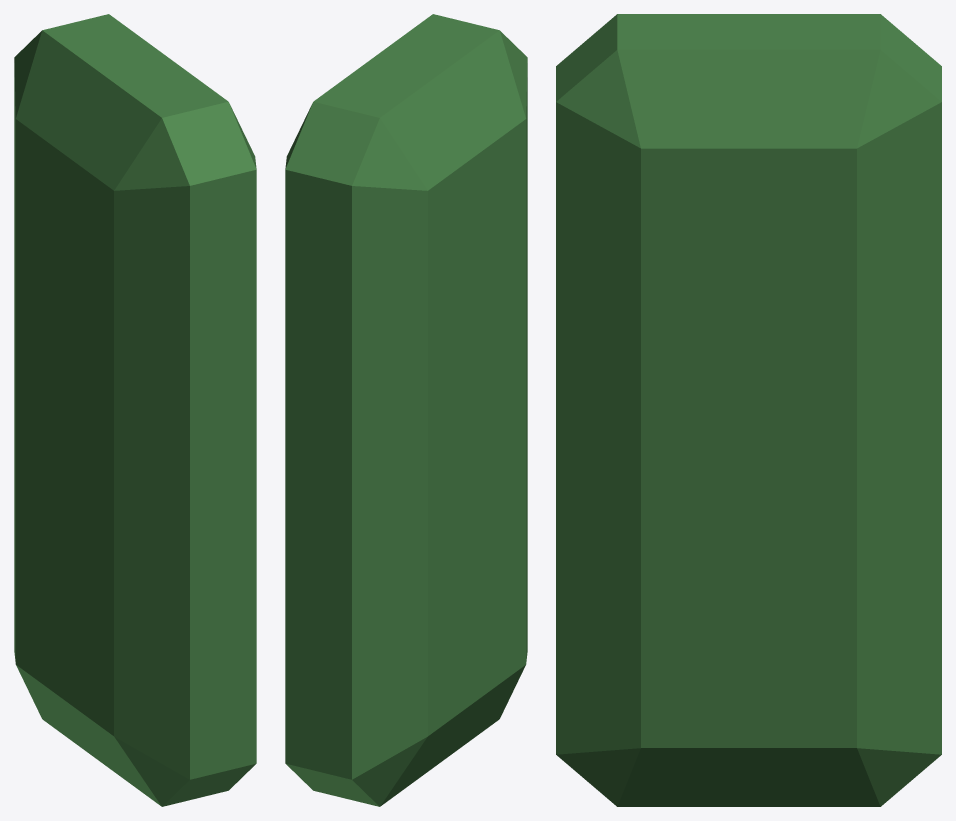
File: SM_Beryl.glb
3 renders of one model, left to right at view 1: azimuth 30°, elevation 25°; view 2: azimuth 150°, elevation 25°; view 3: azimuth 270°, elevation 25°, orthographic. The views are drawn at different scales.
Visible parts, largest first — view 1: SM_Beryl; view 2: SM_Beryl; view 3: SM_Beryl.
Boxes of the visible parts, bbox=[...] form: SM_Beryl: bbox=[14, 14, 256, 806]; SM_Beryl: bbox=[285, 14, 527, 806]; SM_Beryl: bbox=[556, 14, 941, 806].
Size of the model in its own units: 0.045 by 0.21 by 0.097.
1 material, 1 textured.
